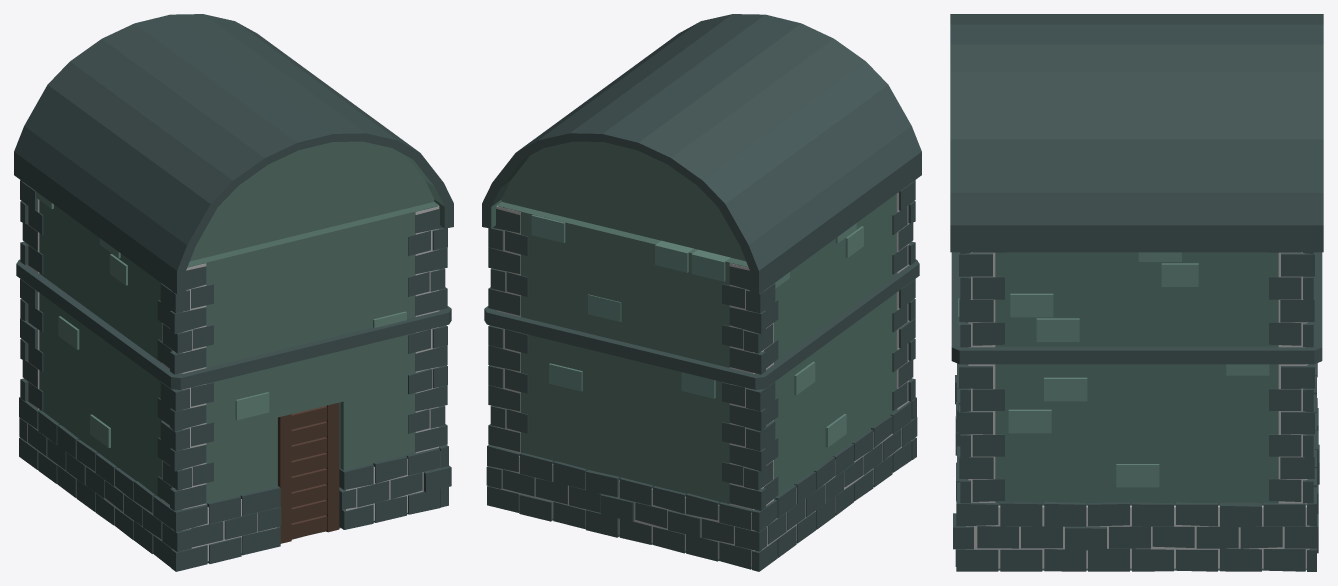
The model's file is 2Story_RoundRoof_Mat.gltf.
3 views of the same model, side by side, from view 1: azimuth 30°, elevation 25°; view 2: azimuth 150°, elevation 25°; view 3: azimuth 270°, elevation 25° (orthographic). The views are drawn at different scales.
Parts seen in each view (by area): view 1: o 2Story_RoundRoof_Mat_Cube.010; view 2: o 2Story_RoundRoof_Mat_Cube.010; view 3: o 2Story_RoundRoof_Mat_Cube.010.
Boxes of the visible parts, <box> form: o 2Story_RoundRoof_Mat_Cube.010: <box>14,14,453,571</box>; o 2Story_RoundRoof_Mat_Cube.010: <box>482,14,921,571</box>; o 2Story_RoundRoof_Mat_Cube.010: <box>950,14,1323,571</box>.
Bounding box in the file's own units: 2.11 × 2.9 × 2.13.
